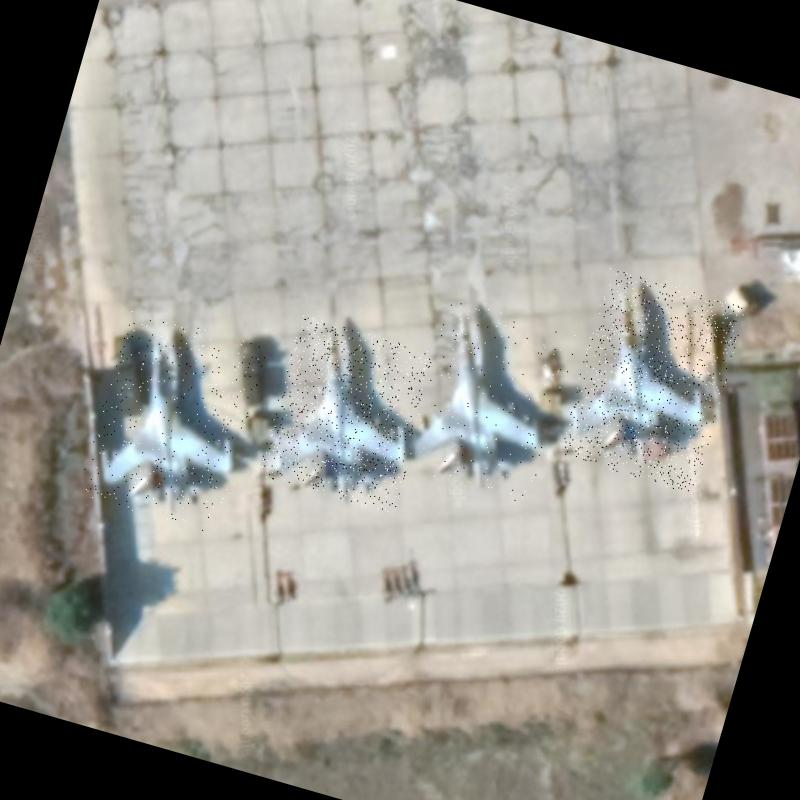A1: (76, 308, 268, 534), (556, 268, 747, 494), (400, 297, 578, 504), (256, 314, 439, 514)
